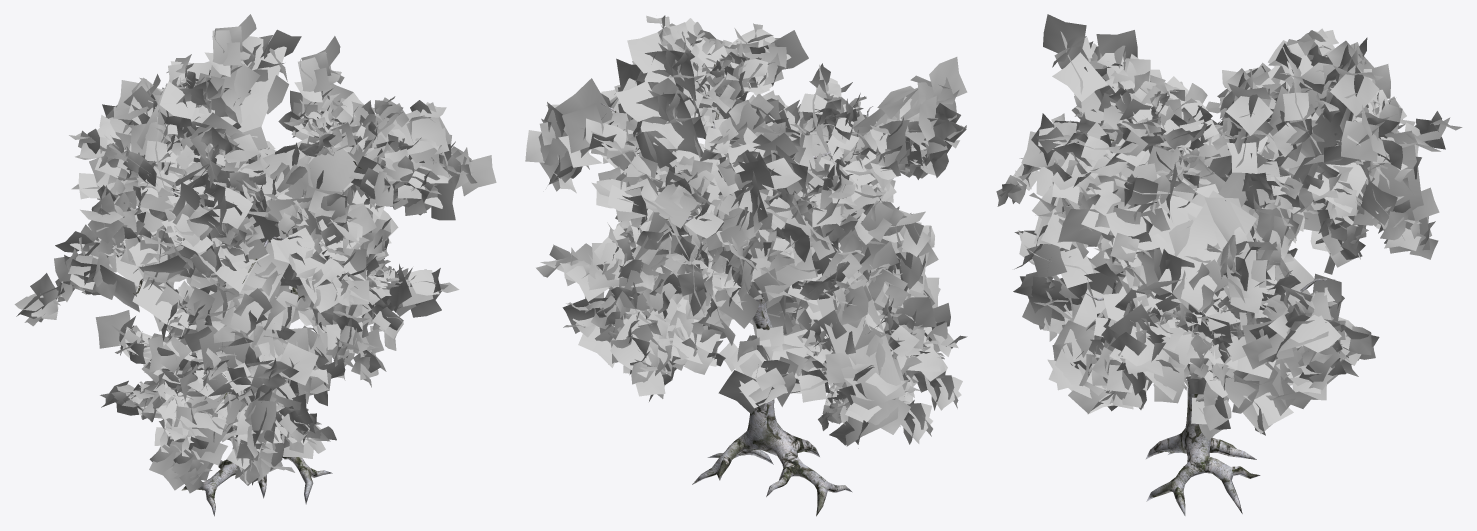
The model's file is Tree16.fbx.
3 renders of one model, left to right at view 1: azimuth 30°, elevation 25°; view 2: azimuth 150°, elevation 25°; view 3: azimuth 270°, elevation 25°, orthographic. The views are drawn at different scales.
Visible parts, largest first — view 1: tree16|branch16-1|Dupli|176, tree16|branch16-2|Dupli|16, tree16|branch16-2|Dupli|67, tree16|branch16-1|Dupli|128, tree16|branch16-2|Dupli|121, tree16|branch16-2|Dupli|178, tree16|branch16-1|Dupli|179, tree16|branch16-2|Dupli|4, tree16|branch16-2|Dupli|118, tree16|branch16-3|Dupli|15, tree16|branch16-2|Dupli|40, tree16|branch16-2|Dupli|55 (+65 smaller); view 2: tree16|branch16-1|Dupli|74, tree16, tree16|branch16-2|Dupli|67, tree16|branch16-3|Dupli|84, tree16|branch16-3|Dupli|198, tree16|branch16-2|Dupli|151, tree16|branch16-1|Dupli|173, tree16|branch16-1|Dupli|164, tree16|branch16-2|Dupli|16, tree16|branch16-2|Dupli|55, tree16|branch16-2|Dupli|172, tree16|branch16-1|Dupli|8 (+59 smaller); view 3: tree16|branch16-2|Dupli|85, tree16|branch16-3|Dupli|60, tree16|branch16-1|Dupli|77, tree16|branch16-2|Dupli|79, tree16|branch16-3|Dupli|84, tree16, tree16|branch16-3|Dupli|39, tree16|branch16-2|Dupli|67, tree16|branch16-3|Dupli|93, tree16|branch16-2|Dupli|55, tree16|branch16-1|Dupli|164, tree16|branch16-3|Dupli|30 (+59 smaller).
Boxes of the visible parts, <box> form: tree16|branch16-1|Dupli|176: <box>183,285,257,387</box>; tree16|branch16-2|Dupli|16: <box>238,29,301,137</box>; tree16|branch16-2|Dupli|67: <box>198,14,260,124</box>; tree16|branch16-1|Dupli|128: <box>276,227,350,312</box>; tree16|branch16-2|Dupli|121: <box>194,242,289,335</box>; tree16|branch16-2|Dupli|178: <box>208,342,318,396</box>; tree16|branch16-1|Dupli|179: <box>171,392,242,493</box>; tree16|branch16-2|Dupli|4: <box>172,182,249,292</box>; tree16|branch16-2|Dupli|118: <box>268,190,359,246</box>; tree16|branch16-3|Dupli|15: <box>54,248,139,312</box>; tree16|branch16-2|Dupli|40: <box>293,36,353,117</box>; tree16|branch16-2|Dupli|55: <box>187,184,285,242</box>; tree16|branch16-1|Dupli|74: <box>816,279,906,422</box>; tree16: <box>601,63,872,516</box>; tree16|branch16-2|Dupli|67: <box>615,81,704,169</box>; tree16|branch16-3|Dupli|84: <box>525,78,612,193</box>; tree16|branch16-3|Dupli|198: <box>700,143,773,249</box>; tree16|branch16-2|Dupli|151: <box>819,200,925,285</box>; tree16|branch16-1|Dupli|173: <box>719,326,821,385</box>; tree16|branch16-1|Dupli|164: <box>610,212,671,318</box>; tree16|branch16-2|Dupli|16: <box>562,103,665,184</box>; tree16|branch16-2|Dupli|55: <box>857,57,967,127</box>; tree16|branch16-2|Dupli|172: <box>718,364,829,414</box>; tree16|branch16-1|Dupli|8: <box>610,298,681,384</box>; tree16|branch16-2|Dupli|85: <box>1139,190,1256,312</box>; tree16|branch16-3|Dupli|60: <box>1109,291,1191,403</box>; tree16|branch16-1|Dupli|77: <box>1105,182,1218,262</box>; tree16|branch16-2|Dupli|79: <box>1204,356,1317,435</box>; tree16|branch16-3|Dupli|84: <box>1204,197,1277,313</box>; tree16: <box>1085,139,1334,515</box>; tree16|branch16-3|Dupli|39: <box>1242,292,1341,369</box>; tree16|branch16-2|Dupli|67: <box>1309,40,1382,167</box>; tree16|branch16-3|Dupli|93: <box>1047,288,1122,413</box>; tree16|branch16-2|Dupli|55: <box>1043,14,1110,123</box>; tree16|branch16-1|Dupli|164: <box>1365,156,1439,259</box>; tree16|branch16-3|Dupli|30: <box>1013,272,1116,341</box>.
Bounding box in the file's own units: 1658 × 1617 × 1481.
